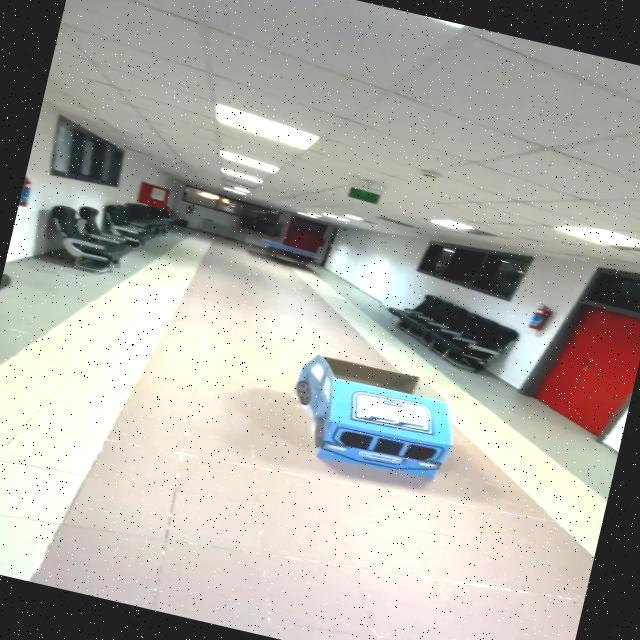blue_car: (227, 322, 496, 534)
